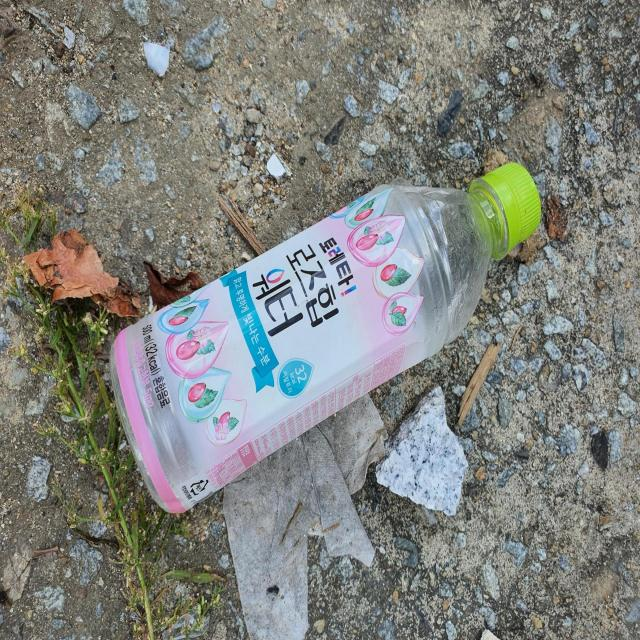plastic: (110, 162, 541, 513)
